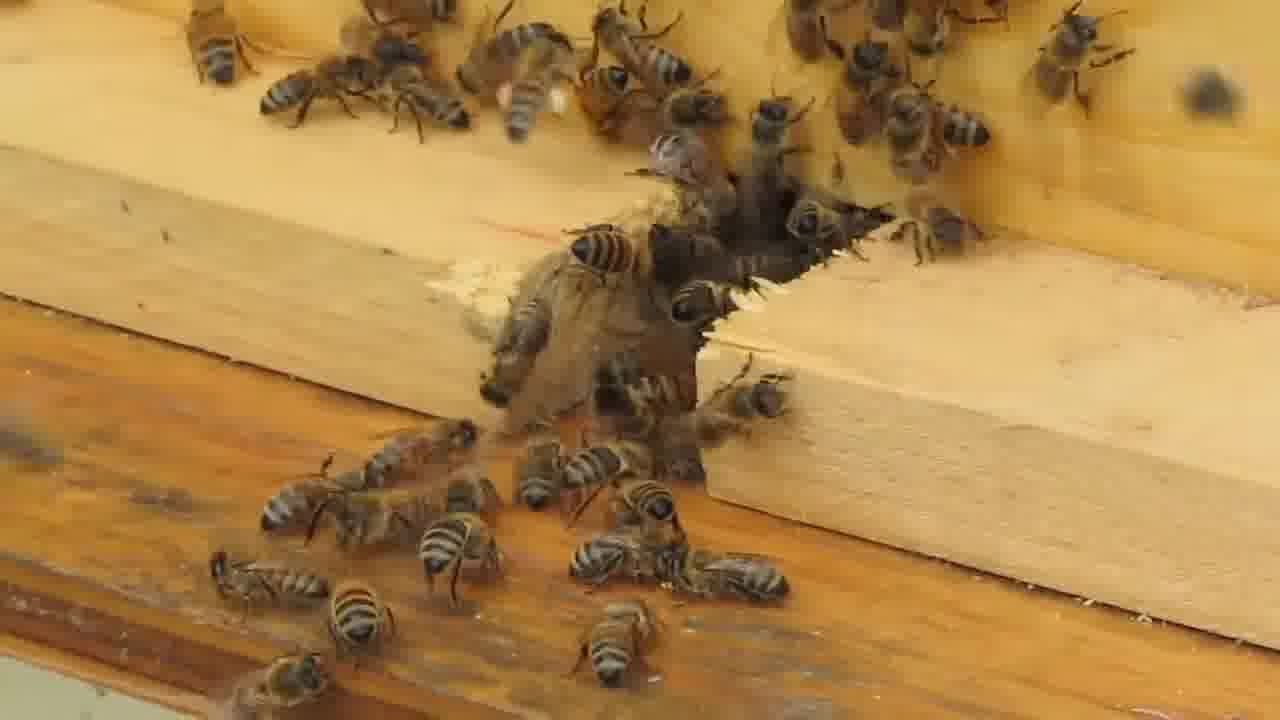pollen: (492, 39, 582, 152)
